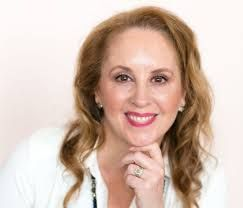no-mask: (88, 17, 198, 148)
